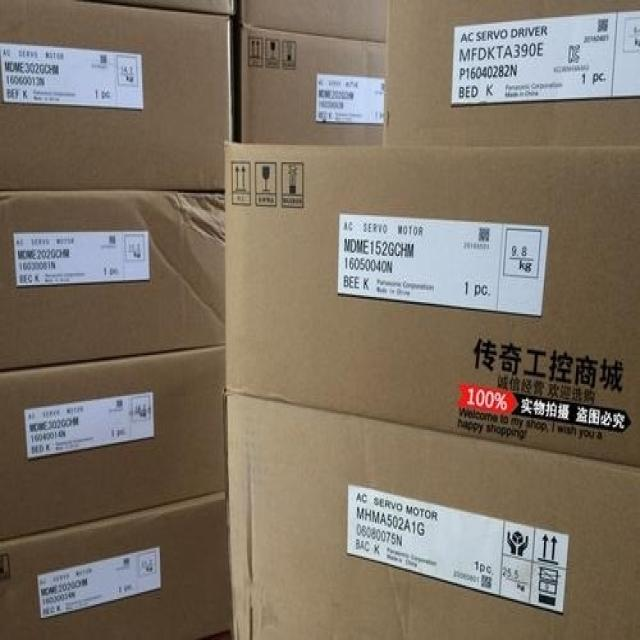box: (224, 140, 639, 466), (224, 388, 638, 638), (0, 344, 226, 541), (0, 0, 231, 192), (0, 192, 226, 370), (383, 1, 639, 147), (0, 493, 231, 638), (232, 23, 385, 144), (233, 1, 388, 43), (53, 0, 233, 17)
